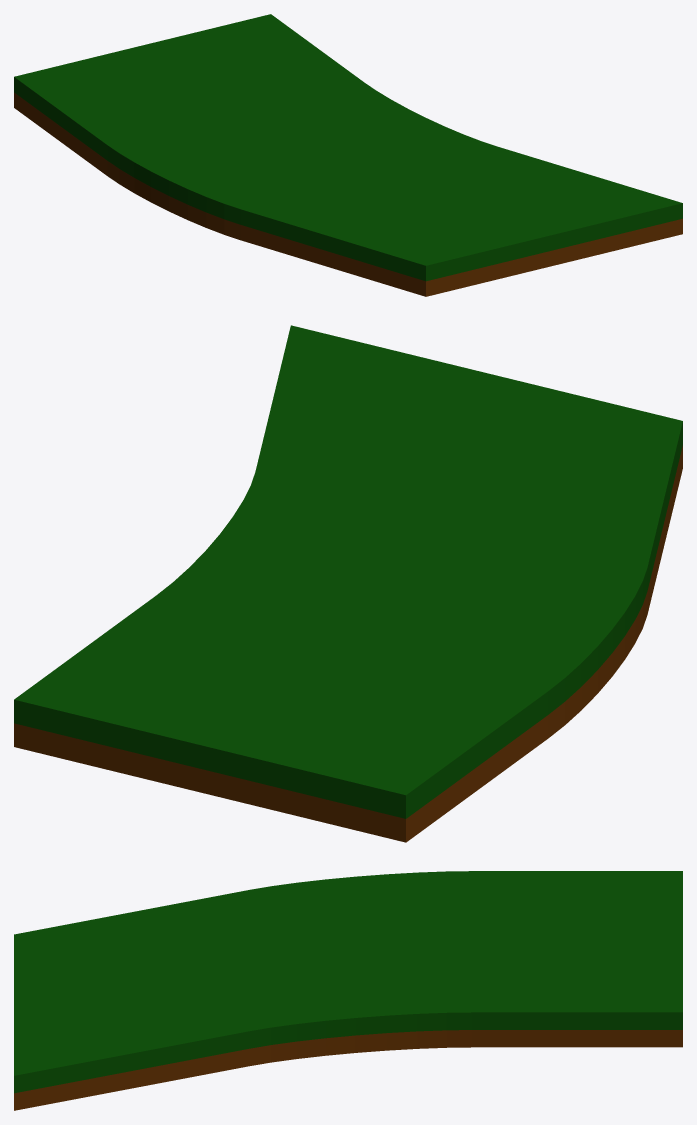
Rendered from PIEZA ESCENARIO 2.fbx.
The picture shows the model from 3 angles, top to bottom: view 1: azimuth 30°, elevation 25°; view 2: azimuth 150°, elevation 25°; view 3: azimuth 270°, elevation 25°; orthographic projection. The views are drawn at different scales.
Parts seen in each view (by area): view 1: Suelo 1.001; view 2: Suelo 1.001; view 3: Suelo 1.001.
Boxes of the visible parts, x1,y1,x2,y2 form: Suelo 1.001: (14,14,682,296); Suelo 1.001: (14,325,682,842); Suelo 1.001: (14,871,682,1110).
Bounding box in the file's own units: 2049 × 163 × 2829.
